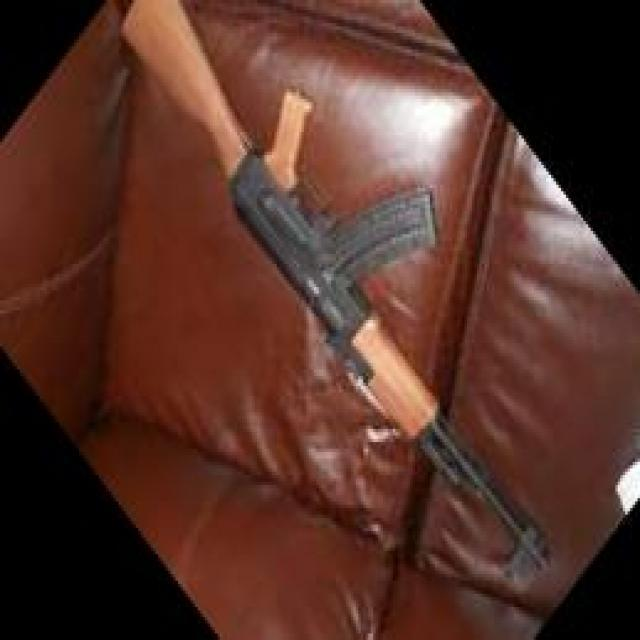weapon: (116, 0, 554, 582)
